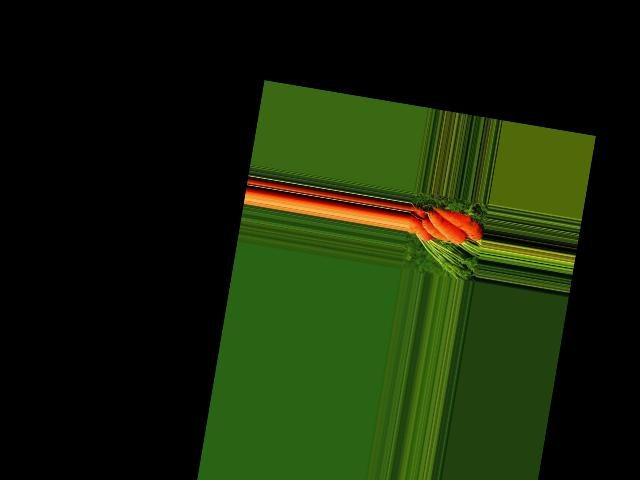carrot: (407, 213, 435, 244)
